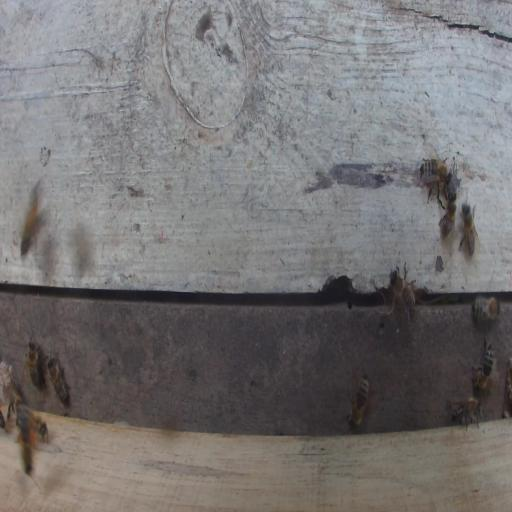nonpollenbee: (389, 261, 422, 320), (418, 150, 451, 204), (21, 179, 44, 256), (15, 403, 49, 448), (346, 372, 369, 433), (471, 336, 494, 392), (46, 354, 70, 403), (458, 201, 478, 257), (451, 396, 482, 432), (438, 187, 457, 241), (26, 338, 42, 387), (472, 297, 501, 323), (7, 393, 22, 420)
pollenbee: (15, 406, 39, 478)
